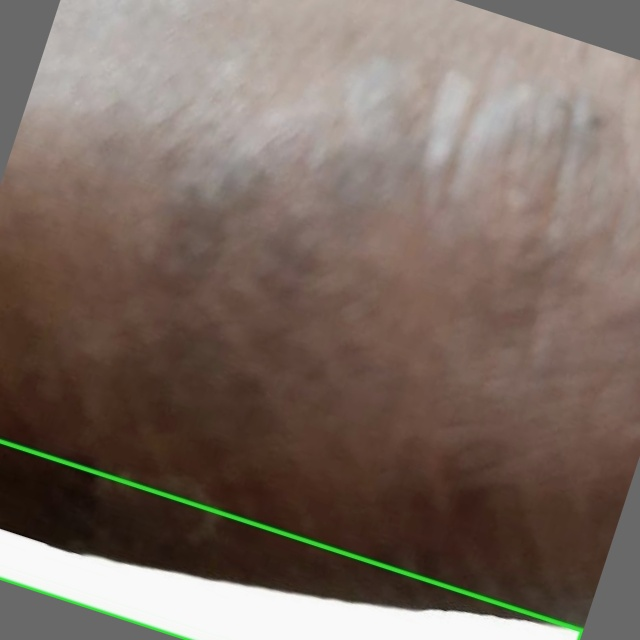Contact Dermatitis: (0, 441, 582, 639)
